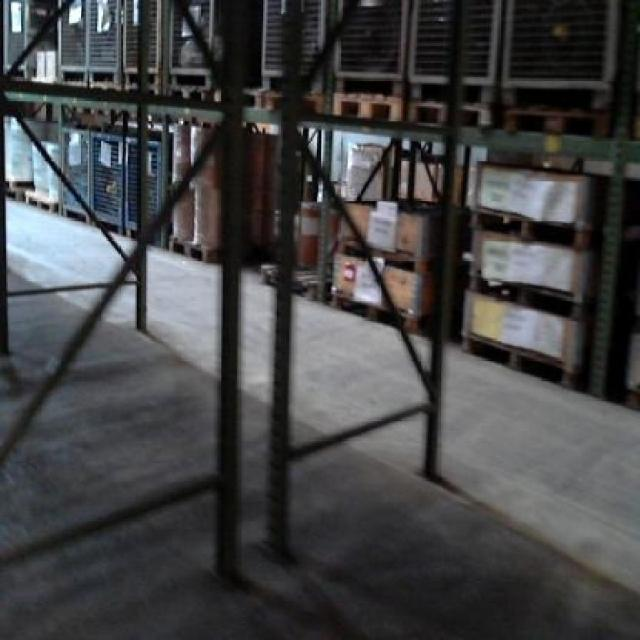pallets: (462, 162, 588, 383)
